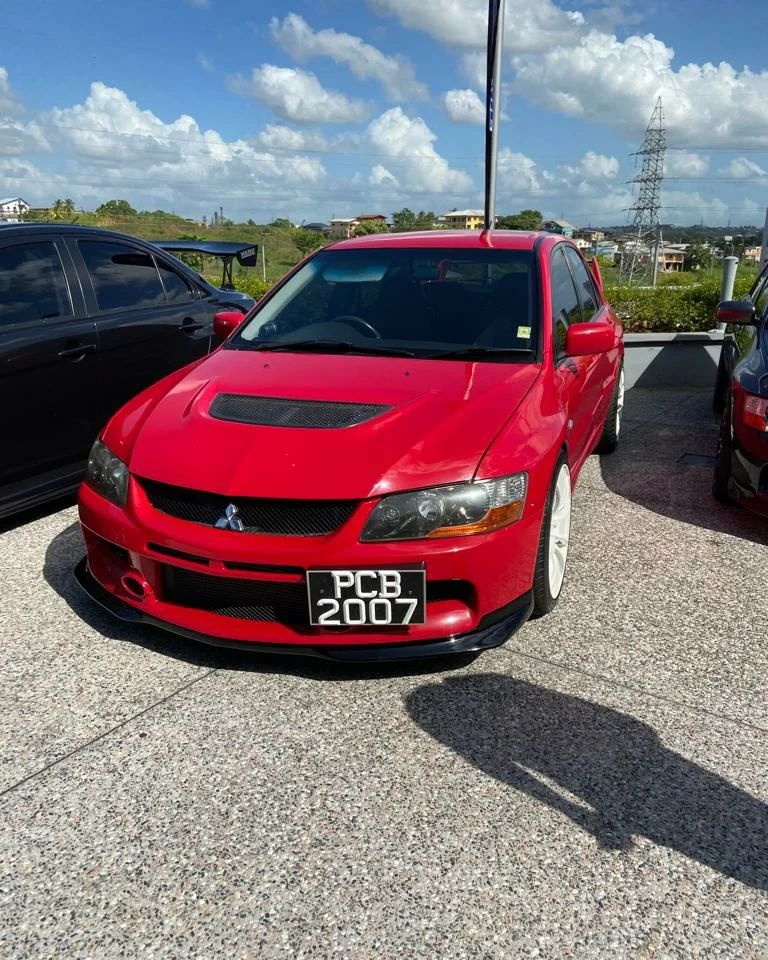License-Plate: (310, 570, 423, 625)
